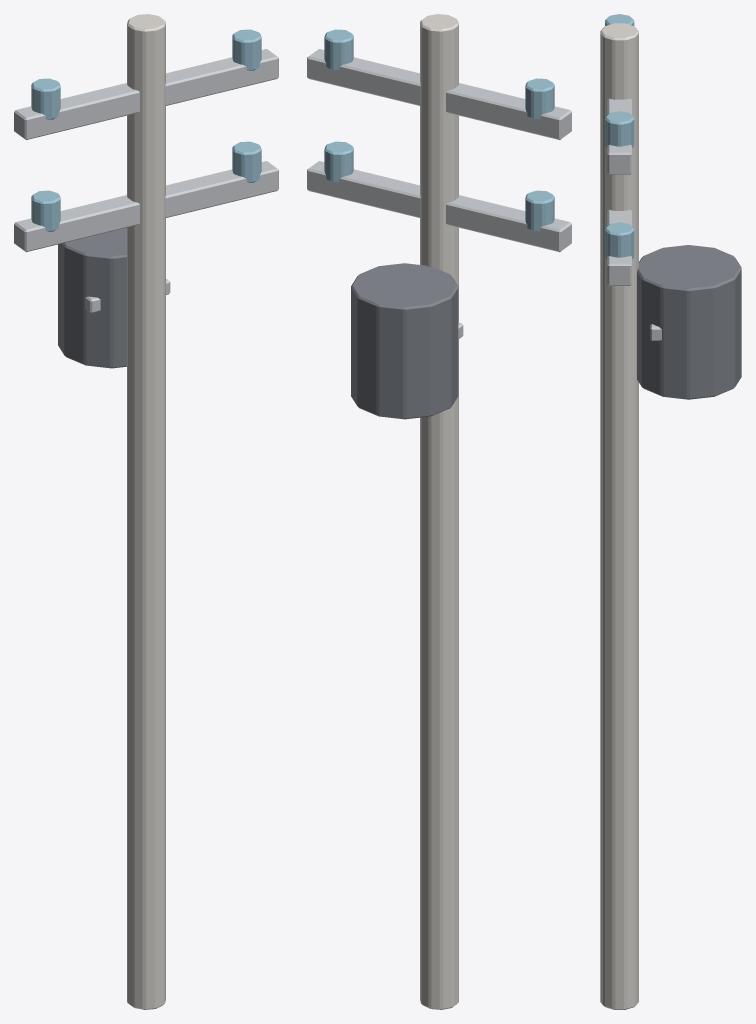
The model's file is 构筑_电线杆_01.fbx.
The picture shows the model from 3 angles, left to right: view 1: azimuth 30°, elevation 25°; view 2: azimuth 150°, elevation 25°; view 3: azimuth 270°, elevation 25°; orthographic projection.
Parts seen in each view (by area): view 1: 杆体.001, 横臂, 变压器.001, 绝缘子.002; view 2: 杆体.001, 变压器.001, 横臂, 绝缘子.002; view 3: 杆体.001, 变压器.001, 绝缘子.002, 横臂.
Boxes of the visible parts, box(x1,y1,x2,y2) form: 杆体.001: box(127, 14, 165, 1009); 横臂: box(14, 49, 278, 252); 变压器.001: box(58, 227, 126, 368); 绝缘子.002: box(31, 29, 261, 231); 杆体.001: box(420, 14, 458, 1009); 变压器.001: box(351, 263, 458, 419); 横臂: box(307, 49, 571, 252); 绝缘子.002: box(324, 29, 554, 231); 杆体.001: box(600, 23, 638, 1009); 变压器.001: box(637, 245, 741, 399); 绝缘子.002: box(605, 14, 634, 259); 横臂: box(607, 98, 631, 285).
Bounding box in the file's own units: 190 × 700 × 92.32.
